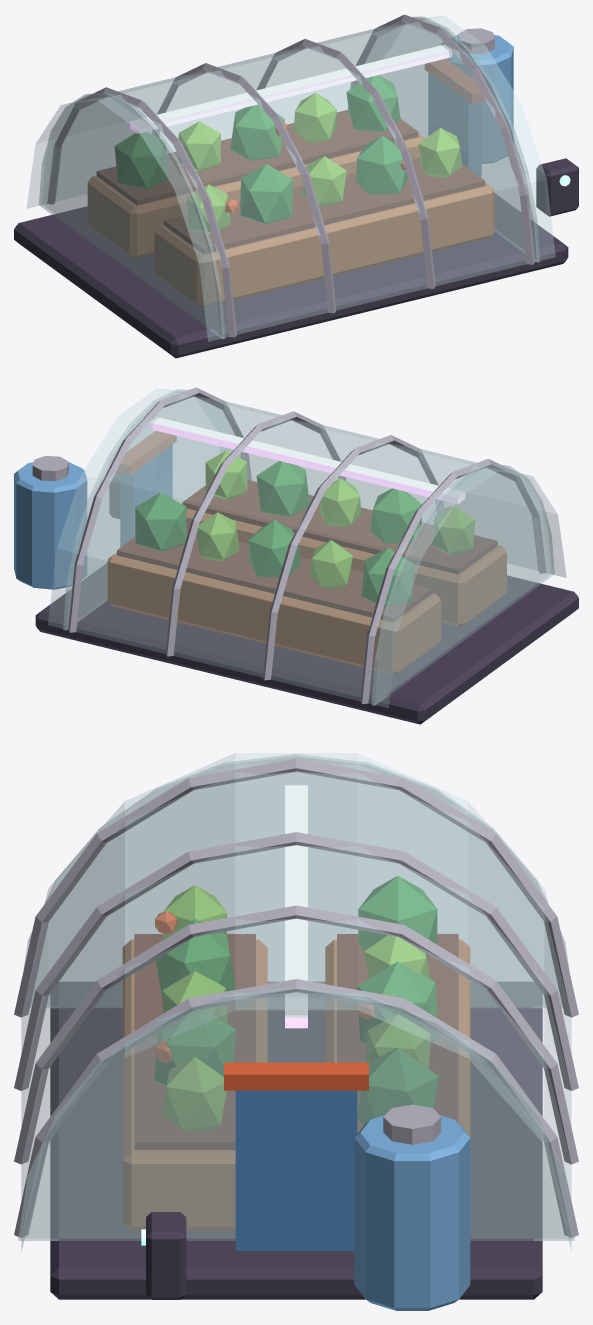
Rendered from MOONSHIFT_FAC_Garden_Facility.glb.
The picture shows the model from 3 angles, top to bottom: view 1: azimuth 30°, elevation 25°; view 2: azimuth 150°, elevation 25°; view 3: azimuth 270°, elevation 25°; orthographic projection. The views are drawn at different scales.
Visible parts, largest first — view 1: Garden_Tunnel, Garden_Slab, Garden_EndWallW, Garden_Bed0, Garden_EndWallE, Garden_BedSoil0, Garden_BedSoil1, Garden_Bed1, Garden_GrowLamp, Garden_Hoop0, Garden_WaterTank, Garden_Hoop1 (+16 smaller); view 2: Garden_Tunnel, Garden_Slab, Garden_EndWallW, Garden_Bed1, Garden_EndWallE, Garden_WaterTank, Garden_BedSoil1, Garden_BedSoil0, Garden_Bed0, Garden_GrowLamp, Garden_Hoop0, Garden_Hoop3 (+16 smaller); view 3: Garden_Tunnel, Garden_EndWallE, Garden_EndWallW, Garden_Slab, Garden_WaterTank, Garden_AirlockDoor, Garden_Bed0, Garden_Hoop1, Garden_Hoop0, Garden_Hoop2, Garden_Hoop3, Garden_BedSoil0 (+16 smaller).
Part boxes in pixels (box(x1,y1,x2,y2)): Garden_Tunnel: box(26, 15, 555, 341); Garden_Slab: box(14, 194, 568, 358); Garden_EndWallW: box(39, 93, 225, 339); Garden_Bed0: box(154, 183, 494, 307); Garden_EndWallE: box(365, 16, 539, 262); Garden_BedSoil0: box(164, 157, 485, 253); Garden_BedSoil1: box(97, 109, 418, 205); Garden_Bed1: box(88, 134, 424, 258); Garden_GrowLamp: box(130, 45, 451, 133); Garden_Hoop0: box(47, 87, 236, 337); Garden_WaterTank: box(441, 35, 513, 163); Garden_Hoop1: box(152, 63, 336, 313); Garden_Tunnel: box(48, 388, 566, 707); Garden_Slab: box(35, 563, 578, 724); Garden_EndWallW: box(371, 464, 554, 705); Garden_Bed1: box(107, 552, 440, 674); Garden_EndWallE: box(63, 389, 240, 630); Garden_WaterTank: box(14, 462, 87, 589); Garden_BedSoil1: box(117, 529, 431, 622); Garden_BedSoil0: box(182, 480, 497, 574); Garden_Bed0: box(186, 508, 506, 626); Garden_GrowLamp: box(149, 417, 465, 504); Garden_Hoop0: box(360, 458, 546, 703); Garden_Hoop3: box(68, 387, 251, 632); Garden_Tunnel: box(21, 753, 571, 1250); Garden_EndWallE: box(18, 986, 574, 1240); Garden_EndWallW: box(24, 754, 568, 1007); Garden_Slab: box(50, 982, 542, 1299); Garden_WaterTank: box(354, 1115, 470, 1310); Garden_AirlockDoor: box(235, 1090, 357, 1250); Garden_Bed0: box(122, 939, 267, 1230); Garden_Hoop1: box(14, 832, 578, 1090); Garden_Hoop0: box(14, 758, 578, 1017); Garden_Hoop2: box(14, 905, 578, 1164); Garden_Hoop3: box(14, 979, 578, 1237); Garden_BedSoil0: box(134, 934, 255, 1149).
Bounding box in the file's own units: 2.74 × 1.1 × 1.95.
